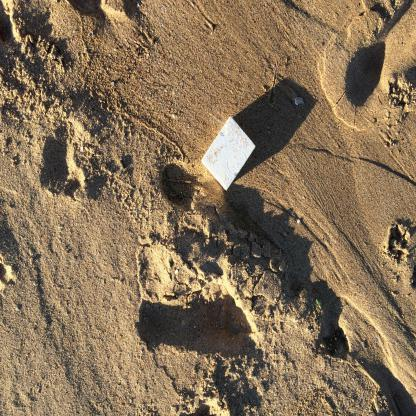kopuk: (203, 118, 257, 192)
